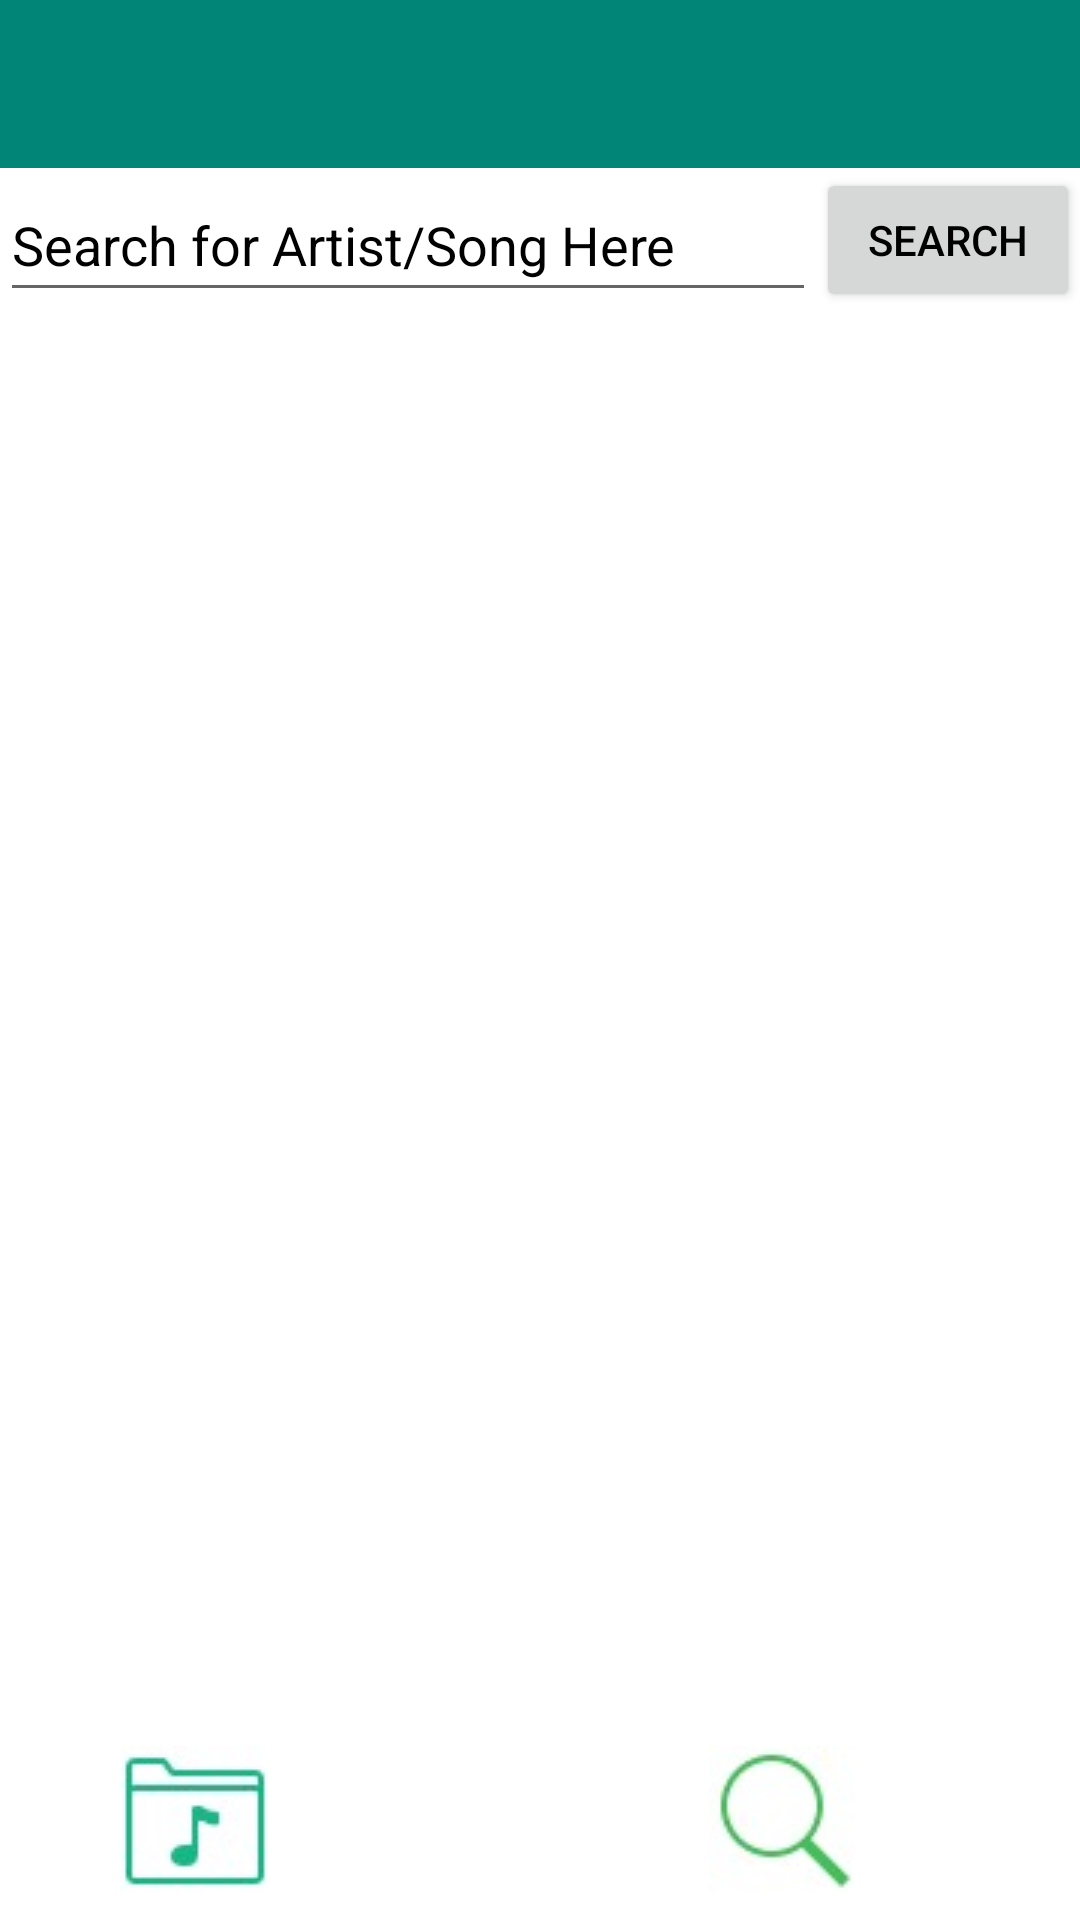

Icon bounding boxes for this 1080px×1920px phone screenshot, format {"left": x1, "top": y1, "right": x2, "bottom": y2}:
playlist: {"left": 123, "top": 1756, "right": 266, "bottom": 1886}
search: {"left": 720, "top": 1753, "right": 851, "bottom": 1888}
